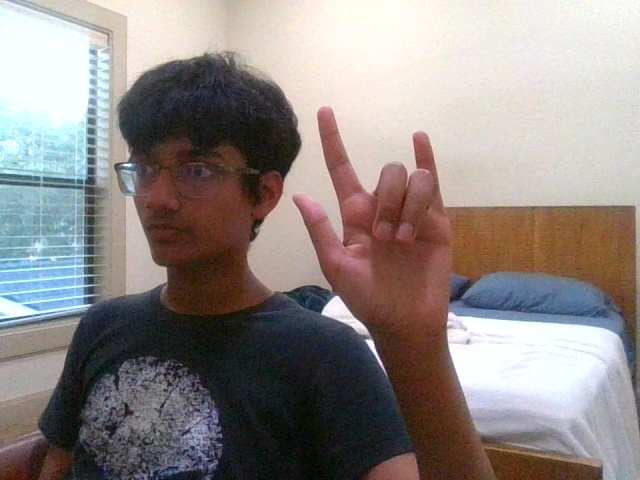ly: (292, 106, 452, 328)
